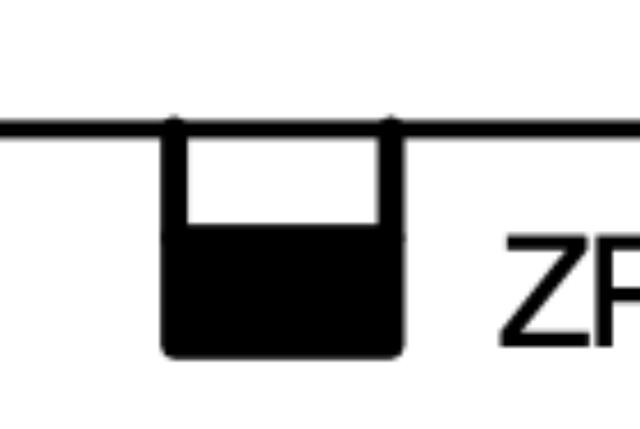radzaehler: (133, 104, 423, 372)
